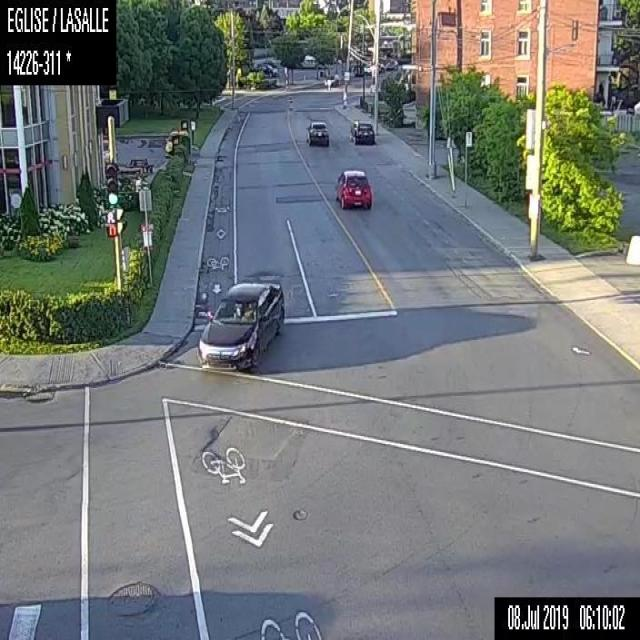vehicle: (193, 279, 284, 373), (333, 167, 371, 209), (348, 119, 375, 144), (305, 117, 329, 144), (258, 62, 277, 76)
